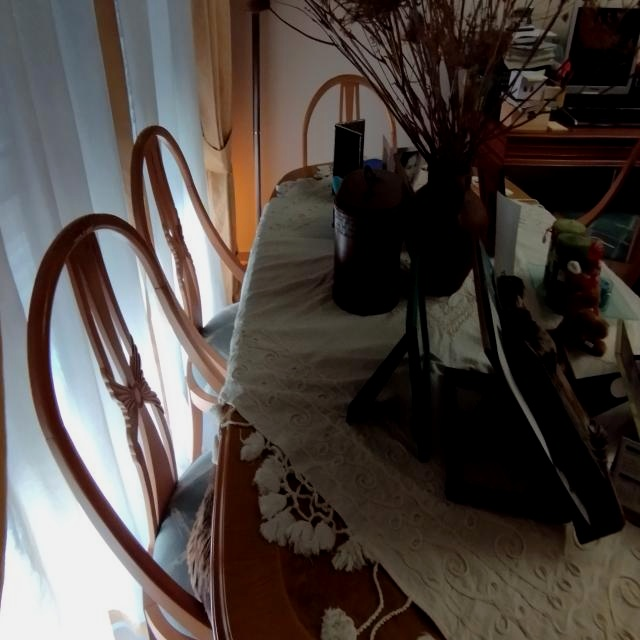chair: (27, 214, 227, 637), (130, 126, 244, 377), (578, 157, 640, 289), (301, 74, 369, 166), (387, 109, 397, 149)
monitor: (566, 0, 640, 95)
stove: (202, 167, 640, 640), (505, 128, 640, 167)
